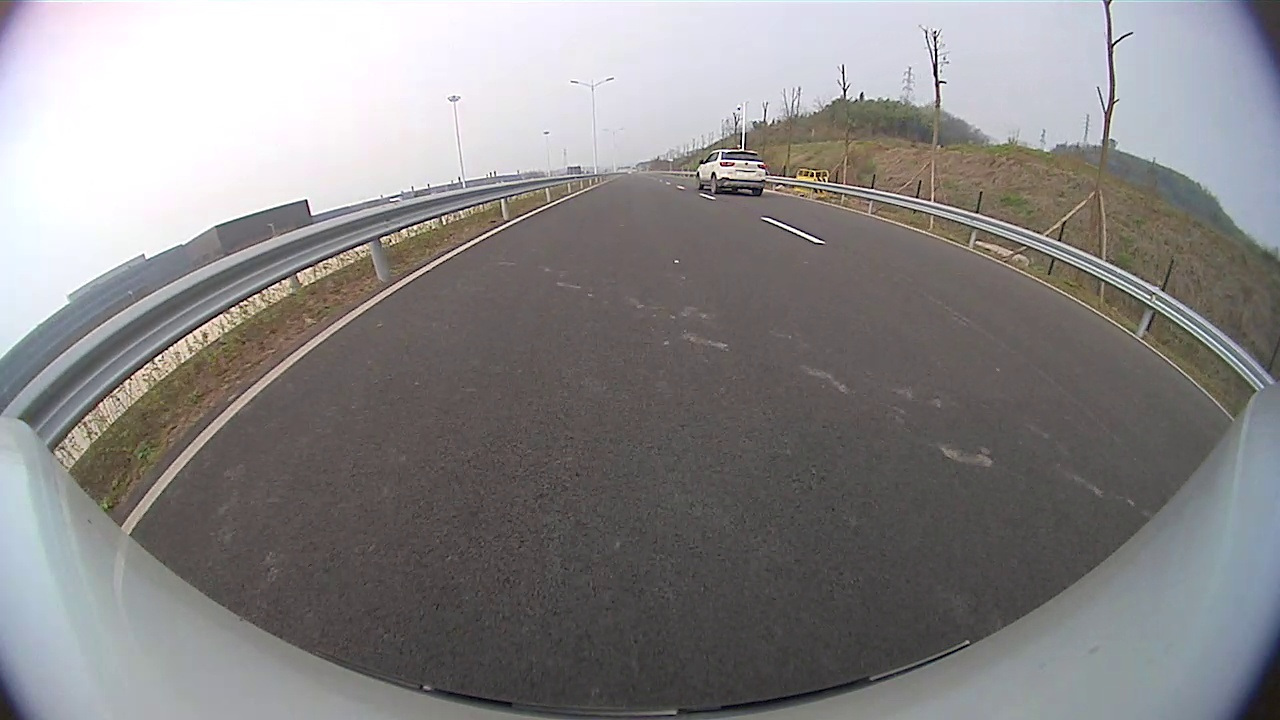car: (694, 149, 768, 197)
front: (694, 175, 704, 191)
rear: (710, 174, 721, 196)
